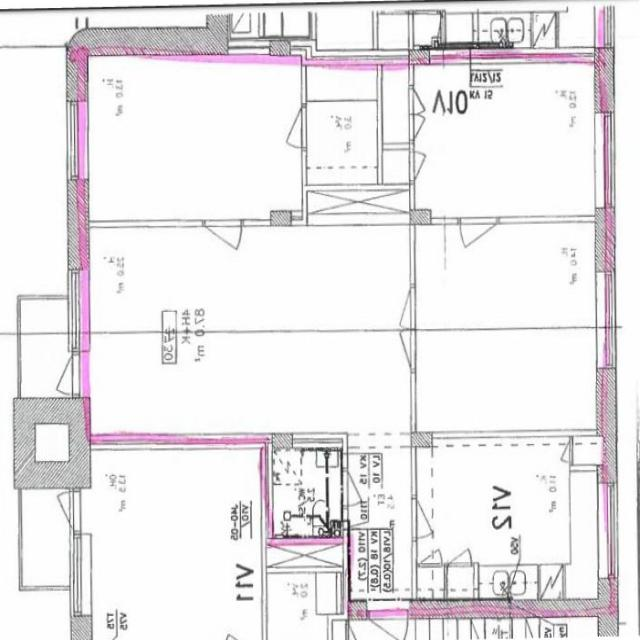door: (461, 218, 498, 272), (205, 218, 242, 272), (377, 286, 417, 328), (377, 328, 417, 369), (41, 354, 81, 394), (411, 498, 448, 538), (270, 108, 307, 148), (343, 470, 377, 505), (410, 152, 440, 182), (449, 534, 472, 567), (410, 113, 438, 140), (419, 534, 442, 566), (410, 88, 438, 114), (551, 440, 574, 463)
